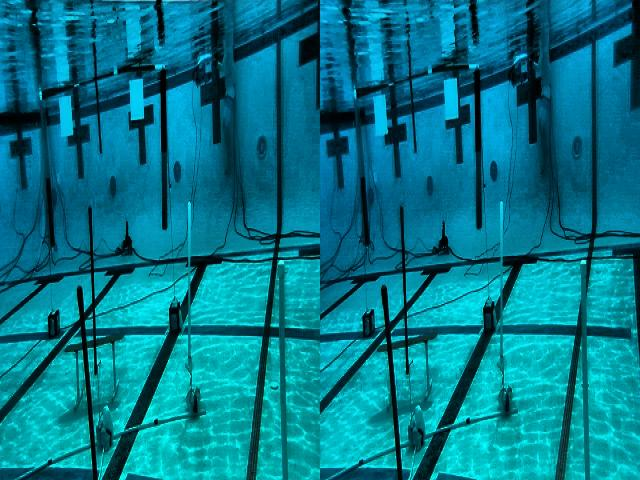gate: (34, 56, 174, 251), (353, 57, 485, 250)
path_marker: (377, 335, 440, 411), (64, 337, 128, 402)
